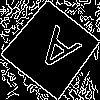A: (26, 24, 83, 82)
